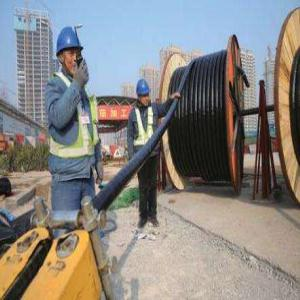blue: (57, 27, 84, 77), (136, 79, 151, 107)
